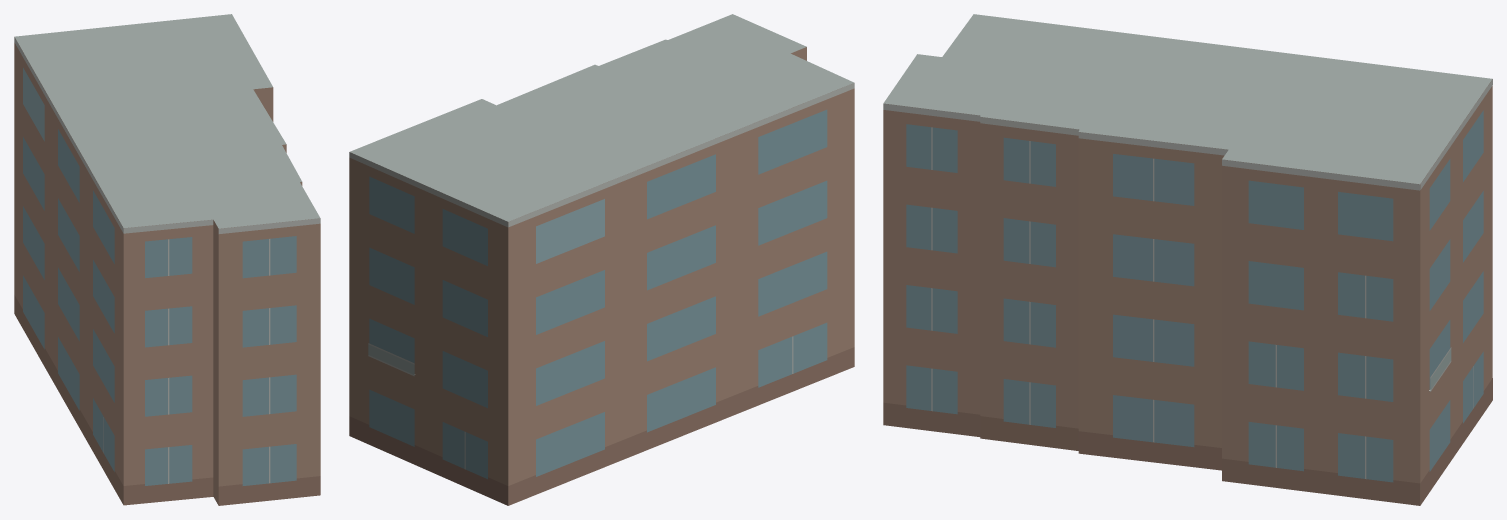
Rendered from survey-upis-32967579.glb.
The picture shows the model from 3 angles, left to right: view 1: azimuth 30°, elevation 25°; view 2: azimuth 150°, elevation 25°; view 3: azimuth 270°, elevation 25°; orthographic projection. The views are drawn at different scales.
Visible parts, largest first — view 1: survey-upis-32967579.tmp; view 2: survey-upis-32967579.tmp; view 3: survey-upis-32967579.tmp.
Boxes of the visible parts, <box> form: survey-upis-32967579.tmp: <box>14,14,320,505</box>; survey-upis-32967579.tmp: <box>349,14,854,505</box>; survey-upis-32967579.tmp: <box>883,14,1492,505</box>.
Bounding box in the file's own units: 13.97 × 12.3 × 21.13.
